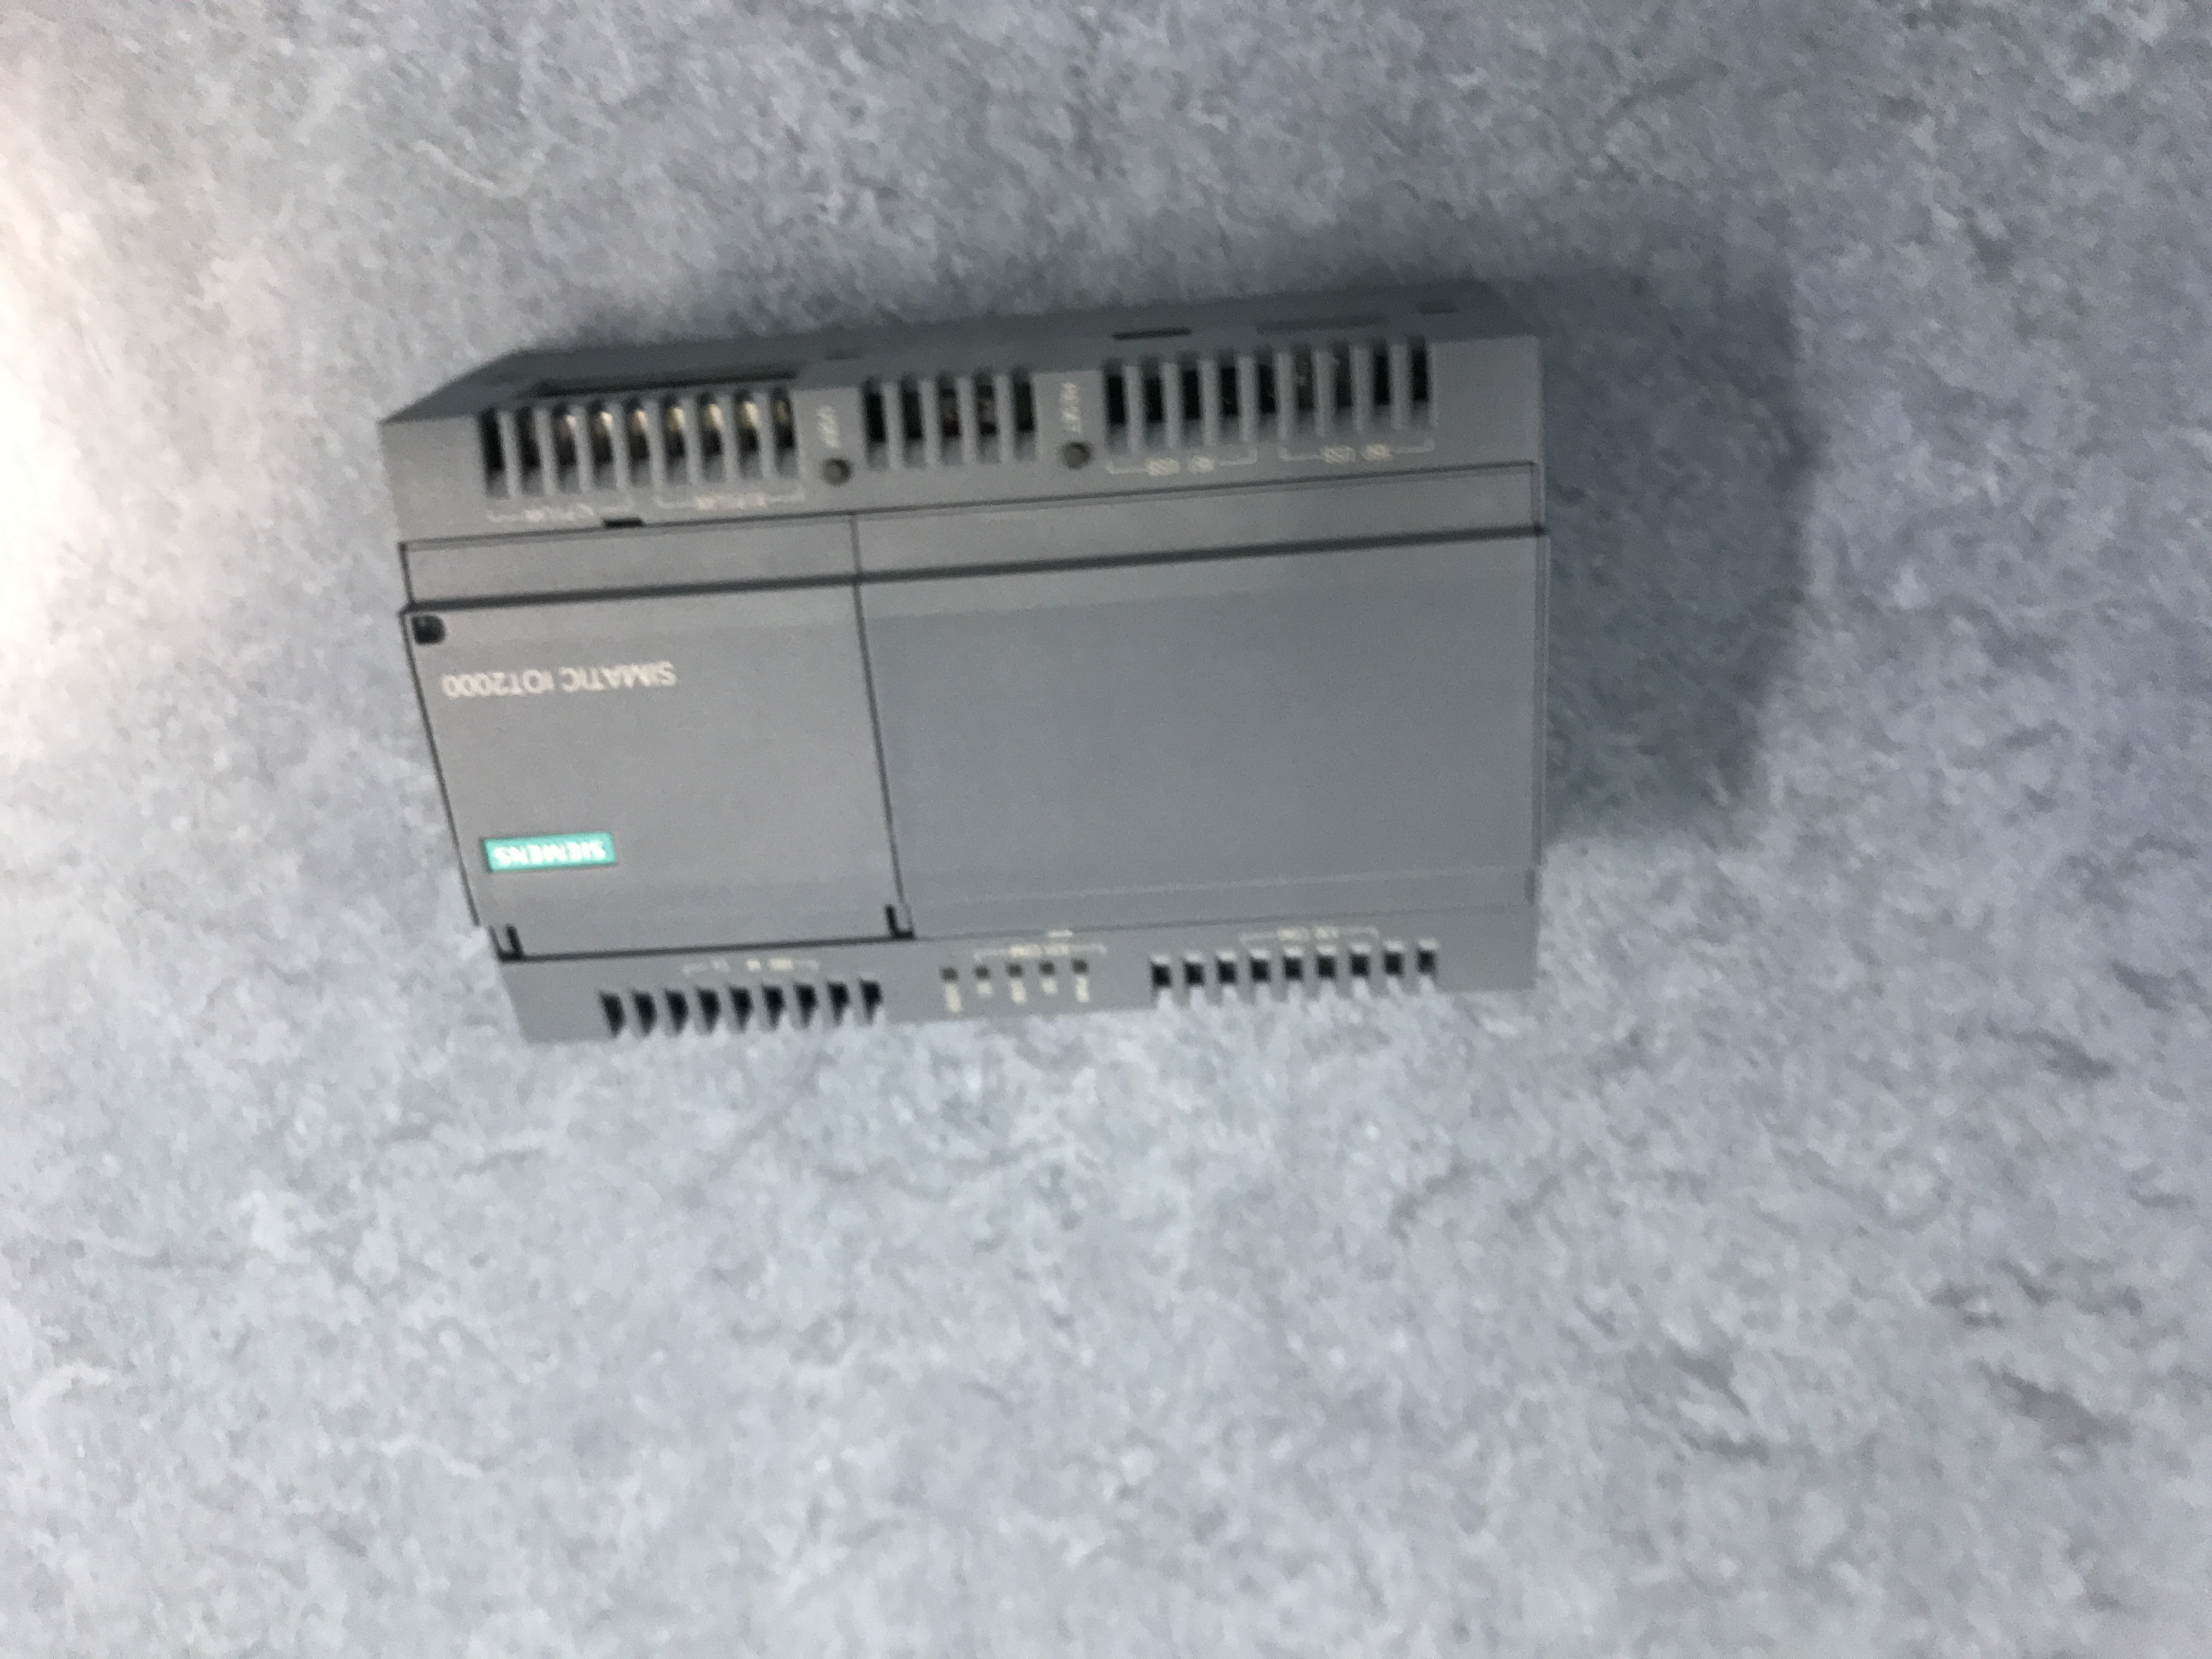device: (374, 279, 1550, 1046)
